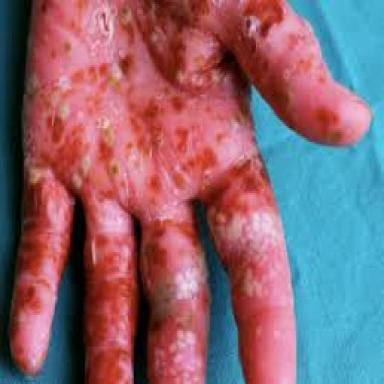Darier_s-Disease: (11, 2, 352, 382)
